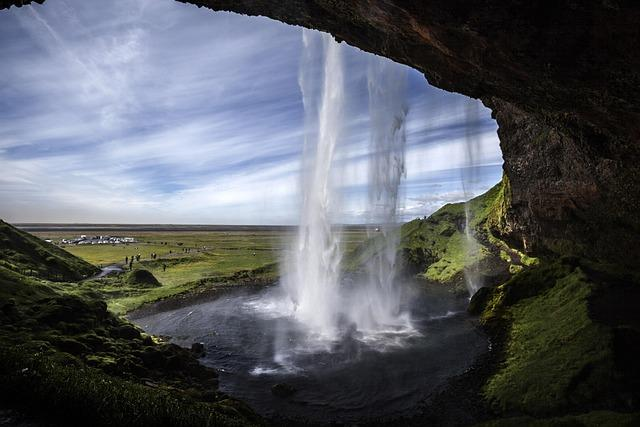Non_Gorille: (62, 19, 560, 413)
